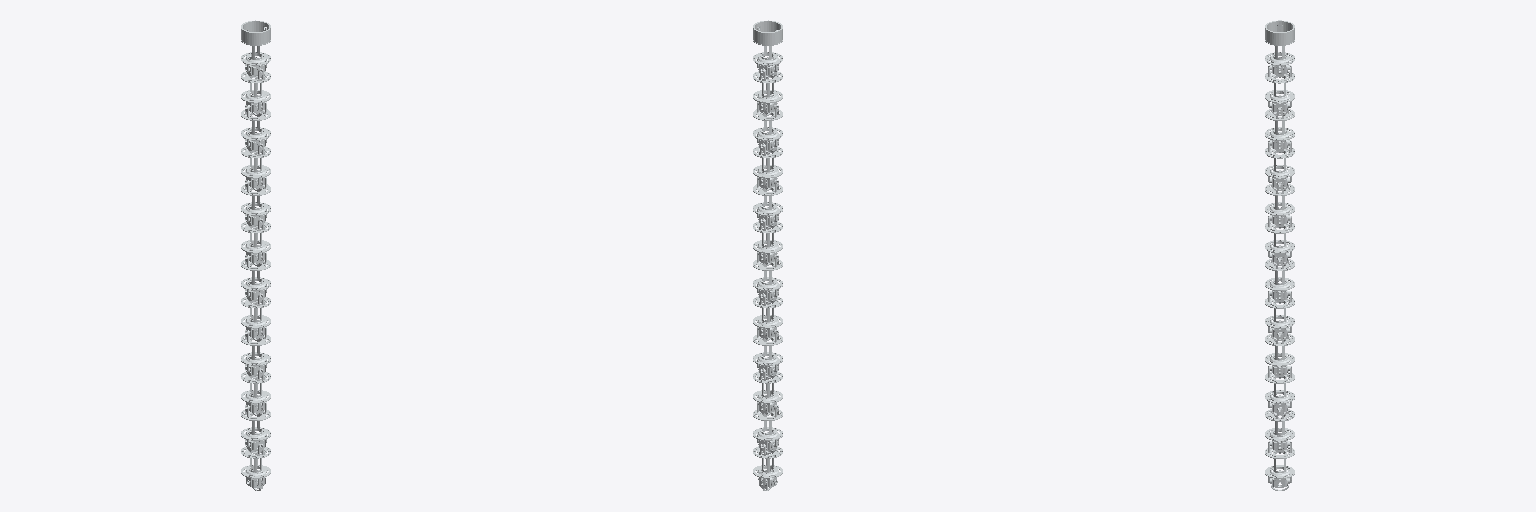
--- What the picture shows (computed from the rendered views, not written in the file) ---
Views: 3 orthographic renders of the robot side by side, from view 1: azimuth 30°, elevation 25°; view 2: azimuth 150°, elevation 25°; view 3: azimuth 270°, elevation 25°.
Robot: rxb_description — 26 links, 25 joints (24 revolute, 1 fixed); root link Link_Base; default pose: every joint at zero.
Visible links, largest first — view 1: Link_18, Link_22, Link_2, Link_10, Link_6, Link_14, Link_4, Link_16, Gripper, Link_8, Link_20, Link_12; view 2: Link_22, Link_18, Link_2, Link_10, Link_6, Link_14, Link_4, Link_16, Link_20, Link_8, Link_12, Gripper; view 3: Link_4, Link_12, Link_8, Link_16, Link_20, Gripper, Link_6, Link_10, Link_14, Link_2, Link_18, Link_22.
Link boxes in pixels (x1=…): Link_18: x1=241, y1=140, x2=270, y2=185; Link_22: x1=241, y1=65, x2=270, y2=110; Link_2: x1=241, y1=444, x2=270, y2=485; Link_10: x1=241, y1=294, x2=270, y2=335; Link_6: x1=241, y1=369, x2=270, y2=410; Link_14: x1=241, y1=219, x2=270, y2=260; Link_4: x1=241, y1=402, x2=270, y2=447; Link_16: x1=241, y1=177, x2=270, y2=221; Gripper: x1=241, y1=20, x2=270, y2=44; Link_8: x1=241, y1=327, x2=270, y2=372; Link_20: x1=241, y1=102, x2=270, y2=146; Link_12: x1=241, y1=252, x2=270, y2=297; Link_22: x1=753, y1=65, x2=782, y2=110; Link_18: x1=753, y1=140, x2=782, y2=185; Link_2: x1=753, y1=444, x2=782, y2=485; Link_10: x1=753, y1=294, x2=782, y2=335; Link_6: x1=753, y1=369, x2=782, y2=410; Link_14: x1=753, y1=219, x2=782, y2=260; Link_4: x1=753, y1=402, x2=782, y2=447; Link_16: x1=753, y1=177, x2=782, y2=221; Link_20: x1=753, y1=102, x2=782, y2=146; Link_8: x1=753, y1=327, x2=782, y2=372; Link_12: x1=753, y1=252, x2=782, y2=297; Gripper: x1=753, y1=20, x2=782, y2=44; Link_4: x1=1265, y1=408, x2=1294, y2=449; Link_12: x1=1265, y1=257, x2=1294, y2=299; Link_8: x1=1265, y1=332, x2=1294, y2=374; Link_16: x1=1265, y1=182, x2=1294, y2=224; Link_20: x1=1265, y1=107, x2=1294, y2=148; Gripper: x1=1265, y1=20, x2=1294, y2=44; Link_6: x1=1265, y1=366, x2=1294, y2=407; Link_10: x1=1265, y1=291, x2=1294, y2=332; Link_14: x1=1265, y1=216, x2=1294, y2=257; Link_2: x1=1265, y1=441, x2=1294, y2=482; Link_18: x1=1265, y1=140, x2=1294, y2=182; Link_22: x1=1265, y1=65, x2=1294, y2=107.
Bounding box of the posed robot: 0.082 × 0.082 × 1.36 m (x, y, z).
25 mesh visuals loaded from 26 distinct referenced files (25 binary STL); not drawn: 1 (reference not matched to a file when rendering).

robot.urdf — rxb_description:
<?xml version="1.0" encoding="utf-8"?>
<!-- This URDF was automatically created by SolidWorks to URDF Exporter! Originally created by Stephen Brawner ([email redacted]) 
     Commit Version: 1.6.0-4-g7f85cfe  Build Version: 1.6.7995.38578
     For more information, please see http://wiki.ros.org/sw_urdf_exporter -->
<robot
  name="rxb_description">
  <link
    name="Link_Base">
    <inertial>
      <origin
        xyz="-5.4833E-09 -1.0558E-09 0.019775"
        rpy="0 0 0" />
      <mass
        value="0.13854" />
      <inertia
        ixx="0.00019476"
        ixy="-1.9999E-11"
        ixz="5.7283E-11"
        iyy="0.00020184"
        iyz="9.884E-12"
        izz="0.00020732" />
    </inertial>
    <visual>
      <origin
        xyz="0 0 0"
        rpy="0 0 0" />
      <geometry>
        <mesh
          filename="package://rxb_description/meshes/Link_Base.STL" />
      </geometry>
      <material
        name="">
        <color
          rgba="0.89804 0.91765 0.92941 1" />
      </material>
    </visual>
    <collision>
      <origin
        xyz="0 0 0"
        rpy="0 0 0" />
      <geometry>
        <mesh
          filename="package://rxb_description/meshes/Link_Base.STL" />
      </geometry>
    </collision>
  </link>
  <link
    name="Link_1">
    <inertial>
      <origin
        xyz="1.0104E-08 1.0232E-08 -1.9979E-05"
        rpy="0 0 0" />
      <mass
        value="0.043053" />
      <inertia
        ixx="1.3084E-05"
        ixy="4.5931E-10"
        ixz="1.8513E-11"
        iyy="1.3061E-05"
        iyz="-1.8595E-11"
        izz="1.8068E-05" />
    </inertial>
    <visual>
      <origin
        xyz="0 0 0"
        rpy="0 0 0" />
      <geometry>
        <mesh
          filename="package://rxb_description/meshes/Link_1.STL" />
      </geometry>
      <material
        name="">
        <color
          rgba="0.89804 0.91765 0.92941 1" />
      </material>
    </visual>
    <collision>
      <origin
        xyz="0 0 0"
        rpy="0 0 0" />
      <geometry>
        <cylinder length="0.05" radius="0.041"/>
<!--        <mesh
          filename="package://rxb_description/meshes/Link_1.STL" />-->
      </geometry>
    </collision>
  </link>
  <joint
    name="Joint_1"
    type="revolute">
    <origin
      xyz="0 0 0.083"
      rpy="0 0 0" />
    <parent
      link="Link_Base" />
    <child
      link="Link_1" />
    <axis
      xyz="1 0 0" />
    <limit
      lower="-0.314"
      upper="0.314"
      effort="100"
      velocity="1" />
  </joint>
  <link
    name="Link_2">
    <inertial>
      <origin
        xyz="6.92775188338132E-10 6.45404889151772E-09 0.0549999980583439"
        rpy="0 0 0" />
      <mass
        value="0.0844359445158754" />
      <inertia
        ixx="0.000106217782705313"
        ixy="2.26997887566645E-12"
        ixz="-1.46044594809386E-10"
        iyy="0.000119974233834078"
        iyz="-2.20808392711434E-12"
        izz="6.41264109128055E-05" />
    </inertial>
    <visual>
      <origin
        xyz="0 0 0"
        rpy="0 0 0" />
      <geometry>
        <mesh
          filename="package://rxb_description/meshes/Link_2.STL" />
      </geometry>
      <material
        name="">
        <color
          rgba="0.898039215686275 0.917647058823529 0.929411764705882 1" />
      </material>
    </visual>
    <collision>
      <origin
        xyz="0 0 0.055"
        rpy="0 0 0" />
      <geometry>
        <cylinder length="0.11" radius="0.041"/>
<!--        <mesh
          filename="package://rxb_description/meshes/Link_2.STL" />-->
      </geometry>
    </collision>
  </link>
  <joint
    name="Joint_2"
    type="revolute">
    <origin
      xyz="0 0 0"
      rpy="0 0 1.5708" />
    <parent
      link="Link_1" />
    <child
      link="Link_2" />
    <axis
      xyz="1 0 0" />
    <limit
      lower="-0.314"
      upper="0.314"
      effort="100"
      velocity="1" />
  </joint>
  <link
    name="Link_3">
    <inertial>
      <origin
        xyz="1.0104009755725E-08 1.02316713291555E-08 -1.99789073555556E-05"
        rpy="0 0 0" />
      <mass
        value="0.0430534167618011" />
      <inertia
        ixx="1.30843177909024E-05"
        ixy="4.59306464583884E-10"
        ixz="1.85131522404431E-11"
        iyy="1.30606430354559E-05"
        iyz="-1.85950234796418E-11"
        izz="1.80677238231024E-05" />
    </inertial>
    <visual>
      <origin
        xyz="0 0 0"
        rpy="0 0 0" />
      <geometry>
        <mesh
          filename="package://rxb_description/meshes/Link_3.STL" />
      </geometry>
      <material
        name="">
        <color
          rgba="0.898039215686275 0.917647058823529 0.929411764705882 1" />
      </material>
    </visual>
    <collision>
      <origin
        xyz="0 0 0"
        rpy="0 0 0" />
      <geometry>
        <cylinder length="0.05" radius="0.041"/>
<!--        <mesh
          filename="package://rxb_description/meshes/Link_3.STL" />-->
      </geometry>
    </collision>
  </link>
  <joint
    name="Joint_3"
    type="revolute">
    <origin
      xyz="0 0 0.11"
      rpy="0 0 0" />
    <parent
      link="Link_2" />
    <child
      link="Link_3" />
    <axis
      xyz="1 0 0" />
    <limit
      lower="-0.314"
      upper="0.314"
      effort="100"
      velocity="1" />
    <mimic joint="Joint_2" multiplier="1.0" offset="0.0"/>
  </joint>
  <link
    name="Link_4">
    <inertial>
      <origin
        xyz="6.9277545953447E-10 6.45404872571012E-09 0.0549999980583439"
        rpy="0 0 0" />
      <mass
        value="0.0844359445158757" />
      <inertia
        ixx="0.000106217782705313"
        ixy="2.2699788024265E-12"
        ixz="-1.46044595102847E-10"
        iyy="0.000119974233834078"
        iyz="-2.20808379860918E-12"
        izz="6.41264109128056E-05" />
    </inertial>
    <visual>
      <origin
        xyz="0 0 0"
        rpy="0 0 0" />
      <geometry>
        <mesh
          filename="package://rxb_description/meshes/Link_4.STL" />
      </geometry>
      <material
        name="">
        <color
          rgba="0.898039215686275 0.917647058823529 0.929411764705882 1" />
      </material>
    </visual>
    <collision>
      <origin
        xyz="0 0 0.055"
        rpy="0 0 0" />
      <geometry>
        <cylinder length="0.11" radius="0.041"/>
<!--        <mesh
          filename="package://rxb_description/meshes/Link_4.STL" />-->
      </geometry>
    </collision>
  </link>
  <joint
    name="Joint_4"
    type="revolute">
    <origin
      xyz="0 0 0"
      rpy="0 0 -1.5708" />
    <parent
      link="Link_3" />
    <child
      link="Link_4" />
    <axis
      xyz="1 0 0" />
    <limit
      lower="-0.314"
      upper="0.314"
      effort="100"
      velocity="1" />
    <mimic joint="Joint_1" multiplier="1.0" offset="0.0"/>
  </joint>
  <link
    name="Link_5">
    <inertial>
      <origin
        xyz="1.01040097334203E-08 1.02316713359479E-08 -1.99789073555001E-05"
        rpy="0 0 0" />
      <mass
        value="0.043053416761801" />
      <inertia
        ixx="1.30843177909023E-05"
        ixy="4.59306464587283E-10"
        ixz="1.85131522720398E-11"
        iyy="1.30606430354558E-05"
        iyz="-1.85950235146396E-11"
        izz="1.80677238231024E-05" />
    </inertial>
    <visual>
      <origin
        xyz="0 0 0"
        rpy="0 0 0" />
      <geometry>
        <mesh
          filename="package://rxb_description/meshes/Link_5.STL" />
      </geometry>
      <material
        name="">
        <color
          rgba="0.898039215686275 0.917647058823529 0.929411764705882 1" />
      </material>
    </visual>
    <collision>
      <origin
        xyz="0 0 0"
        rpy="0 0 0" />
      <geometry>
        <cylinder length="0.05" radius="0.041"/>
<!--        <mesh
          filename="package://rxb_description/meshes/Link_5.STL" />-->
      </geometry>
    </collision>
  </link>
  <joint
    name="Joint_5"
    type="revolute">
    <origin
      xyz="0 0 0.11"
      rpy="0 0 0" />
    <parent
      link="Link_4" />
    <child
      link="Link_5" />
    <axis
      xyz="1 0 0" />
    <limit
      lower="-0.314"
      upper="0.314"
      effort="100"
      velocity="1" />
    <mimic joint="Joint_1" multiplier="1.0" offset="0.0"/>
  </joint>
  <link
    name="Link_6">
    <inertial>
      <origin
        xyz="6.92774966192583E-10 6.45404885077868E-09 0.0549999980583441"
        rpy="0 0 0" />
      <mass
        value="0.0844359445158756" />
      <inertia
        ixx="0.000106217782705313"
        ixy="2.2699786749959E-12"
        ixz="-1.46044594617312E-10"
        iyy="0.000119974233834078"
        iyz="-2.20808397277327E-12"
        izz="6.41264109128056E-05" />
    </inertial>
    <visual>
      <origin
        xyz="0 0 0"
        rpy="0 0 0" />
      <geometry>
        <mesh
          filename="package://rxb_description/meshes/Link_6.STL" />
      </geometry>
      <material
        name="">
        <color
          rgba="0.898039215686275 0.917647058823529 0.929411764705882 1" />
      </material>
    </visual>
    <collision>
      <origin
        xyz="0 0 0.055"
        rpy="0 0 0" />
      <geometry>
        <cylinder length="0.11" radius="0.041"/>
<!--        <mesh
          filename="package://rxb_description/meshes/Link_6.STL" />-->
      </geometry>
    </collision>
  </link>
  <joint
    name="Joint_6"
    type="revolute">
    <origin
      xyz="0 0 0"
      rpy="0 0 1.5708" />
    <parent
      link="Link_5" />
    <child
      link="Link_6" />
    <axis
      xyz="1 0 0" />
    <limit
      lower="-0.314"
      upper="0.314"
      effort="100"
      velocity="1" />
    <mimic joint="Joint_2" multiplier="1.0" offset="0.0"/>
  </joint>
  <link
    name="Link_7">
    <inertial>
      <origin
        xyz="1.01040097484981E-08 1.02316713754812E-08 -1.99789073555001E-05"
        rpy="0 0 0" />
      <mass
        value="0.0430534167618011" />
      <inertia
        ixx="1.30843177909023E-05"
        ixy="4.59306464584384E-10"
        ixz="1.85131522407011E-11"
        iyy="1.30606430354559E-05"
        iyz="-1.85950234641434E-11"
        izz="1.80677238231024E-05" />
    </inertial>
    <visual>
      <origin
        xyz="0 0 0"
        rpy="0 0 0" />
      <geometry>
        <mesh
          filename="package://rxb_description/meshes/Link_7.STL" />
      </geometry>
      <material
        name="">
        <color
          rgba="0.898039215686275 0.917647058823529 0.929411764705882 1" />
      </material>
    </visual>
    <collision>
      <origin
        xyz="0 0 0"
        rpy="0 0 0" />
      <geometry>
        <cylinder length="0.05" radius="0.041"/>
<!--        <mesh
          filename="package://rxb_description/meshes/Link_7.STL" />-->
      </geometry>
    </collision>
  </link>
  <joint
    name="Joint_7"
    type="revolute">
    <origin
      xyz="0 0 0.11"
      rpy="0 0 0" />
    <parent
      link="Link_6" />
    <child
      link="Link_7" />
    <axis
      xyz="1 0 0" />
    <limit
      lower="-0.314"
      upper="0.314"
      effort="100"
      velocity="1" />
    <mimic joint="Joint_2" multiplier="1.0" offset="0.0"/>
  </joint>
  <link
    name="Link_8">
    <inertial>
      <origin
        xyz="-6.92775804053446E-10 -6.45404827468107E-09 0.0549999980583439"
        rpy="0 0 0" />
      <mass
        value="0.0844359445158755" />
      <inertia
        ixx="0.000106217782705313"
        ixy="2.26997898891704E-12"
        ixz="1.46044594962054E-10"
        iyy="0.000119974233834078"
        iyz="2.20808423834578E-12"
        izz="6.41264109128055E-05" />
    </inertial>
    <visual>
      <origin
        xyz="0 0 0"
        rpy="0 0 0" />
      <geometry>
        <mesh
          filename="package://rxb_description/meshes/Link_8.STL" />
      </geometry>
      <material
        name="">
        <color
          rgba="0.898039215686275 0.917647058823529 0.929411764705882 1" />
      </material>
    </visual>
    <collision>
      <origin
        xyz="0 0 0.055"
        rpy="0 0 0" />
      <geometry>
        <cylinder length="0.11" radius="0.041"/>
<!--        <mesh
          filename="package://rxb_description/meshes/Link_8.STL" />-->
      </geometry>
    </collision>
  </link>
  <joint
    name="Joint_8"
    type="revolute">
    <origin
      xyz="0 0 0"
      rpy="0 0 -1.5708" />
    <parent
      link="Link_7" />
    <child
      link="Link_8" />
    <axis
      xyz="1 0 0" />
    <limit
      lower="-0.314"
      upper="0.314"
      effort="100"
      velocity="1" />
    <mimic joint="Joint_1" multiplier="1.0" offset="0.0"/>
  </joint>
  <link
    name="Link_9">
    <inertial>
      <origin
        xyz="1.01040097447099E-08 1.02316713228416E-08 -1.99789073555001E-05"
        rpy="0 0 0" />
      <mass
        value="0.0430534167618012" />
      <inertia
        ixx="1.30843177909024E-05"
        ixy="4.59306464583718E-10"
        ixz="1.85131522766916E-11"
        iyy="1.30606430354559E-05"
        iyz="-1.85950234800416E-11"
        izz="1.80677238231025E-05" />
    </inertial>
    <visual>
      <origin
        xyz="0 0 0"
        rpy="0 0 0" />
      <geometry>
        <mesh
          filename="package://rxb_description/meshes/Link_9.STL" />
      </geometry>
      <material
        name="">
        <color
          rgba="0.898039215686275 0.917647058823529 0.929411764705882 1" />
      </material>
    </visual>
    <collision>
      <origin
        xyz="0 0 0"
        rpy="0 0 0" />
      <geometry>
        <cylinder length="0.05" radius="0.041"/>
<!--        <mesh
          filename="package://rxb_description/meshes/Link_9.STL" />-->
      </geometry>
    </collision>
  </link>
  <joint
    name="Joint_9"
    type="revolute">
    <origin
      xyz="0 0 0.11"
      rpy="0 0 0" />
    <parent
      link="Link_8" />
    <child
      link="Link_9" />
    <axis
      xyz="1 0 0" />
    <limit
      lower="-0.314"
      upper="0.314"
      effort="100"
      velocity="1" />
  </joint>
  <link
    name="Link_10">
    <inertial>
      <origin
        xyz="6.92775174282752E-10 6.45404891225269E-09 0.0549999980583439"
        rpy="0 0 0" />
      <mass
        value="0.0844359445158752" />
      <inertia
        ixx="0.000106217782705312"
        ixy="2.26997884512043E-12"
        ixz="-1.46044595142725E-10"
        iyy="0.000119974233834077"
        iyz="-2.20808390880481E-12"
        izz="6.41264109128054E-05" />
    </inertial>
    <visual>
      <origin
        xyz="0 0 0"
        rpy="0 0 0" />
      <geometry>
        <mesh
          filename="package://rxb_description/meshes/Link_10.STL" />
      </geometry>
      <material
        name="">
        <color
          rgba="0.898039215686275 0.917647058823529 0.929411764705882 1" />
      </material>
    </visual>
    <collision>
      <origin
        xyz="0 0 0.055"
        rpy="0 0 0" />
      <geometry>
        <cylinder length="0.11" radius="0.041"/>
<!--        <mesh
          filename="package://rxb_description/meshes/Link_10.STL" />-->
      </geometry>
    </collision>
  </link>
  <joint
    name="Joint_10"
    type="revolute">
    <origin
      xyz="0 0 0"
      rpy="0 0 1.5708" />
    <parent
      link="Link_9" />
    <child
      link="Link_10" />
    <axis
      xyz="1 0 0" />
    <limit
      lower="-0.314"
      upper="0.314"
      effort="100"
      velocity="1" />
  </joint>
  <link
    name="Link_11">
    <inertial>
      <origin
        xyz="1.01040097669885E-08 1.02316714068604E-08 -1.99789073555001E-05"
        rpy="0 0 0" />
      <mass
        value="0.0430534167618012" />
      <inertia
        ixx="1.30843177909024E-05"
        ixy="4.59306464591687E-10"
        ixz="1.85131522471567E-11"
        iyy="1.30606430354559E-05"
        iyz="-1.85950234657486E-11"
        izz="1.80677238231024E-05" />
    </inertial>
    <visual>
      <origin
        xyz="0 0 0"
        rpy="0 0 0" />
      <geometry>
        <mesh
          filename="package://rxb_description/meshes/Link_11.STL" />
      </geometry>
      <material
        name="">
        <color
          rgba="0.898039215686275 0.917647058823529 0.929411764705882 1" />
      </material>
    </visual>
    <collision>
      <origin
        xyz="0 0 0"
        rpy="0 0 0" />
      <geometry>
        <cylinder length="0.05" radius="0.041"/>
<!--        <mesh
          filename="package://rxb_description/meshes/Link_11.STL" />-->
      </geometry>
    </collision>
  </link>
  <joint
    name="Joint_11"
    type="revolute">
    <origin
      xyz="0 0 0.11"
      rpy="0 0 0" />
    <parent
      link="Link_10" />
    <child
      link="Link_11" />
    <axis
      xyz="1 0 0" />
    <limit
      lower="-0.314"
      upper="0.314"
      effort="100"
      velocity="1" />
    <mimic joint="Joint_10" multiplier="1.0" offset="0.0"/>
  </joint>
  <link
    name="Link_12">
    <inertial>
      <origin
        xyz="1.06716513935055E-09 6.56108220966113E-09 0.0549999976354911"
        rpy="0 0 0" />
      <mass
        value="0.0844359430785643" />
      <inertia
        ixx="0.000106217781684007"
        ixy="2.47290505935373E-12"
        ixz="-1.46878284393236E-10"
        iyy="0.000119974232151906"
        iyz="-2.44421837145218E-12"
        izz="6.41264100840519E-05" />
    </inertial>
    <visual>
      <origin
        xyz="0 0 0"
        rpy="0 0 0" />
      <geometry>
        <mesh
          filename="package://rxb_description/meshes/Link_12.STL" />
      </geometry>
      <material
        name="">
        <color
          rgba="0.898039215686275 0.917647058823529 0.929411764705882 1" />
      </material>
    </visual>
    <collision>
      <origin
        xyz="0 0 0.055"
        rpy="0 0 0" />
      <geometry>
        <cylinder length="0.11" radius="0.041"/>
<!--        <mesh
          filename="package://rxb_description/meshes/Link_12.STL" />-->
      </geometry>
    </collision>
  </link>
  <joint
    name="Joint_12"
    type="revolute">
    <origin
      xyz="0 0 0"
      rpy="0 0 -1.5708" />
    <parent
      link="Link_11" />
    <child
      link="Link_12" />
    <axis
      xyz="1 0 0" />
    <limit
      lower="-0.314"
      upper="0.314"
      effort="100"
      velocity="1" />
    <mimic joint="Joint_9" multiplier="1.0" offset="0.0"/>
  </joint>
  <link
    name="Link_13">
    <inertial>
      <origin
        xyz="1.01040097134455E-08 1.02316713636383E-08 -1.99789073557222E-05"
        rpy="0 0 0" />
      <mass
        value="0.0430534167618013" />
      <inertia
        ixx="1.30843177909024E-05"
        ixy="4.59306464588926E-10"
        ixz="1.85131522941175E-11"
        iyy="1.30606430354559E-05"
        iyz="-1.85950234623596E-11"
        izz="1.80677238231025E-05" />
    </inertial>
    <visual>
      <origin
        xyz="0 0 0"
        rpy="0 0 0" />
      <geometry>
        <mesh
          filename="package://rxb_description/meshes/Link_13.STL" />
      </geometry>
      <material
        name="">
        <color
          rgba="0.898039215686275 0.917647058823529 0.929411764705882 1" />
      </material>
    </visual>
    <collision>
      <origin
        xyz="0 0 0"
        rpy="0 0 0" />
      <geometry>
        <cylinder length="0.05" radius="0.041"/>
<!--        <mesh
          filename="package://rxb_description/meshes/Link_13.STL" />-->
      </geometry>
    </collision>
  </link>
  <joint
    name="Joint_13"
    type="revolute">
    <origin
      xyz="0 0 0.11"
      rpy="0 0 0" />
    <parent
      link="Link_12" />
    <child
      link="Link_13" />
    <axis
      xyz="1 0 0" />
    <limit
      lower="-0.314"
      upper="0.314"
      effort="100"
      velocity="1" />
    <mimic joint="Joint_9" multiplier="1.0" offset="0.0"/>
  </joint>
  <link
    name="Link_14">
    <inertial>
      <origin
        xyz="6.92775060239595E-10 6.45404916349498E-09 0.054999997212638"
        rpy="0 0 0" />
      <mass
        value="0.084435941641254" />
      <inertia
        ixx="0.000106217780662701"
        ixy="2.67583074891859E-12"
        ixz="-1.46044595052338E-10"
        iyy="0.000119974230469735"
        iyz="-2.20808430269629E-12"
        izz="6.41264092552989E-05" />
    </inertial>
    <visual>
      <origin
        xyz="0 0 0"
        rpy="0 0 0" />
      <geometry>
        <mesh
          filename="package://rxb_description/meshes/Link_14.STL" />
      </geometry>
      <material
        name="">
        <color
          rgba="0.898039215686275 0.917647058823529 0.929411764705882 1" />
      </material>
    </visual>
    <collision>
      <origin
        xyz="0 0 0.055"
        rpy="0 0 0" />
      <geometry>
        <cylinder length="0.11" radius="0.041"/>
<!--        <mesh
          filename="package://rxb_description/meshes/Link_14.STL" />-->
      </geometry>
    </collision>
  </link>
  <joint
    name="Joint_14"
    type="revolute">
    <origin
      xyz="0 0 0"
      rpy="0 0 1.5708" />
    <parent
      link="Link_13" />
    <child
      link="Link_14" />
    <axis
      xyz="1 0 0" />
    <limit
      lower="-0.314"
      upper="0.314"
      effort="100"
      velocity="1" />
    <mimic joint="Joint_10" multiplier="1.0" offset="0.0"/>
  </joint>
  <link
    name="Link_15">
    <inertial>
      <origin
        xyz="1.01040096531514E-08 1.02316713823111E-08 -1.99789073552781E-05"
        rpy="0 0 0" />
      <mass
        value="0.0430534167618015" />
      <inertia
        ixx="1.30843177909024E-05"
        ixy="4.5930646458258E-10"
        ixz="1.85131522501147E-11"
        iyy="1.3060643035456E-05"
        iyz="-1.85950234612563E-11"
        izz="1.80677238231025E-05" />
    </inertial>
    <visual>
      <origin
        xyz="0 0 0"
        rpy="0 0 0" />
      <geometry>
        <mesh
          filename="package://rxb_description/meshes/Link_15.STL" />
      </geometry>
      <material
        name="">
        <color
          rgba="0.898039215686275 0.917647058823529 0.929411764705882 1" />
      </material>
    </visual>
    <collision>
      <origin
        xyz="0 0 0"
        rpy="0 0 0" />
      <geometry>
        <cylinder length="0.05" radius="0.041"/>
<!--        <mesh
          filename="package://rxb_description/meshes/Link_15.STL" />-->
      </geometry>
    </collision>
  </link>
  <joint
    name="Joint_15"
    type="revolute">
    <origin
      xyz="0 0 0.11"
      rpy="0 0 0" />
    <parent
      link="Link_14" />
    <child
      link="Link_15" />
    <axis
      xyz="1 0 0" />
    <limit
      lower="-0.314"
      upper="0.314"
      effort="100"
      velocity="1" />
    <mimic joint="Joint_10" multiplier="1.0" offset="0.0"/>
  </joint>
  <link
    name="Link_16">
    <inertial>
      <origin
        xyz="-6.92775918665772E-10 -6.45404833297036E-09 0.0549999980583441"
        rpy="0 0 0" />
      <mass
        value="0.0844359445158763" />
      <inertia
        ixx="0.000106217782705314"
        ixy="2.26997901164901E-12"
        ixz="1.46044595600223E-10"
        iyy="0.000119974233834079"
        iyz="2.20808418235175E-12"
        izz="6.41264109128058E-05" />
    </inertial>
    <visual>
      <origin
        xyz="0 0 0"
        rpy="0 0 0" />
      <geometry>
        <mesh
          filename="package://rxb_description/meshes/Link_16.STL" />
      </geometry>
      <material
        name="">
        <color
          rgba="0.898039215686275 0.917647058823529 0.929411764705882 1" />
      </material>
    </visual>
    <collision>
      <origin
        xyz="0 0 0.055"
        rpy="0 0 0" />
      <geometry>
        <cylinder length="0.11" radius="0.041"/>
<!--        <mesh
          filename="package://rxb_description/meshes/Link_16.STL" />-->
      </geometry>
    </collision>
  </link>
  <joint
    name="Joint_16"
    type="revolute">
    <origin
      xyz="0 0 0"
      rpy="0 0 -1.5708" />
    <parent
      link="Link_15" />
    <child
      link="Link_16" />
    <axis
      xyz="1 0 0" />
    <limit
      lower="-0.314"
      upper="0.314"
      effort="100"
      velocity="1" />
    <mimic joint="Joint_9" multiplier="1.0" offset="0.0"/>
  </joint>
  <link
    name="Link_17">
    <inertial>
      <origin
        xyz="1.01040097331695E-08 1.02316713916676E-08 -1.99789073553891E-05"
        rpy="0 0 0" />
      <mass
        value="0.0430534167618012" />
      <inertia
        ixx="1.30843177909024E-05"
        ixy="4.59306464585112E-10"
        ixz="1.85131522807412E-11"
        iyy="1.30606430354559E-05"
        iyz="-1.85950234748913E-11"
        izz="1.80677238231025E-05" />
    </inertial>
    <visual>
      <origin
        xyz="0 0 0"
        rpy="0 0 0" />
      <geometry>
        <mesh
          filename="package://rxb_description/meshes/Link_17.STL" />
      </geometry>
      <material
        name="">
        <color
          rgba="0.898039215686275 0.917647058823529 0.929411764705882 1" />
      </material>
    </visual>
    <collision>
      <origin
        xyz="0 0 0"
        rpy="0 0 0" />
      <geometry>
        <cylinder length="0.05" radius="0.041"/>
<!--        <mesh
          filename="package://rxb_description/meshes/Link_17.STL" />-->
      </geometry>
    </collision>
  </link>
  <joint
    name="Joint_17"
    type="revolute">
    <origin
      xyz="0 0 0.11"
      rpy="0 0 0" />
    <parent
      link="Link_16" />
    <child
      link="Link_17" />
    <axis
      xyz="1 0 0" />
    <limit
      lower="-0.314"
      upper="0.314"
      effort="100"
      velocity="1" />
  </joint>
  <link
    name="Link_18">
    <inertial>
      <origin
        xyz="6.92775018805065E-10 6.45404887998603E-09 0.0549999980583438"
        rpy="0 0 0" />
      <mass
        value="0.0844359445158754" />
      <inertia
        ixx="0.000106217782705313"
        ixy="2.26997888393446E-12"
        ixz="-1.46044594522816E-10"
        iyy="0.000119974233834078"
        iyz="-2.20808399376015E-12"
        izz="6.41264109128055E-05" />
    </inertial>
    <visual>
      <origin
        xyz="0 0 0"
        rpy="0 0 0" />
      <geometry>
        <mesh
          filename="package://rxb_description/meshes/Link_18.STL" />
      </geometry>
      <material
        name="">
        <color
          rgba="0.898039215686275 0.917647058823529 0.929411764705882 1" />
      </material>
    </visual>
    <collision>
      <origin
        xyz="0 0 0.055"
        rpy="0 0 0" />
      <geometry>
        <cylinder length="0.11" radius="0.041"/>
<!--        <mesh
          filename="package://rxb_description/meshes/Link_18.STL" />-->
      </geometry>
    </collision>
  </link>
  <joint
    name="Joint_18"
    type="revolute">
    <origin
      xyz="0 0 0"
      rpy="0 0 1.5708" />
    <parent
      link="Link_17" />
    <child
      link="Link_18" />
    <axis
      xyz="1 0 0" />
    <limit
      lower="-0.314"
      upper="0.314"
      effort="100"
      velocity="1" />
  </joint>
  <link
    name="Link_19">
    <inertial>
      <origin
        xyz="1.01040095799695E-08 1.02316712455543E-08 -1.99789073556111E-05"
        rpy="0 0 0" />
      <mass
        value="0.0430534167618013" />
      <inertia
        ixx="1.30843177909024E-05"
        ixy="4.5930646458597E-10"
        ixz="1.85131522538623E-11"
        iyy="1.30606430354559E-05"
        iyz="-1.85950234878036E-11"
        izz="1.80677238231024E-05" />
    </inertial>
    <visual>
      <origin
        xyz="0 0 0"
        rpy="0 0 0" />
      <geometry>
        <mesh
          filename="package://rxb_description/meshes/Link_19.STL" />
      </geometry>
      <material
        name="">
        <color
          rgba="0.898039215686275 0.917647058823529 0.929411764705882 1" />
      </material>
    </visual>
    <collision>
      <origin
        xyz="0 0 0"
        rpy="0 0 0" />
      <geometry>
        <cylinder length="0.05" radius="0.041"/>
<!--        <mesh
          filename="package://rxb_description/meshes/Link_19.STL" />-->
      </geometry>
    </collision>
  </link>
  <joint
    name="Joint_19"
    type="revolute">
    <origin
      xyz="0 0 0.11"
      rpy="0 0 0" />
    <parent
      link="Link_18" />
    <child
      link="Link_19" />
    <axis
      xyz="1 0 0" />
    <limit
      lower="-0.314"
      upper="0.314"
      effort="100"
      velocity="1" />
    <mimic joint="Joint_18" multiplier="1.0" offset="0.0"/>
  </joint>
  <link
    name="Link_20">
    <inertial>
      <origin
        xyz="6.92775732181566E-10 6.45404860232469E-09 0.0549999980583442"
        rpy="0 0 0" />
      <mass
        value="0.0844359445158771" />
      <inertia
        ixx="0.000106217782705315"
        ixy="2.26997885160174E-12"
        ixz="-1.46044594860131E-10"
        iyy="0.00011997423383408"
        iyz="-2.20808379849493E-12"
        izz="6.41264109128062E-05" />
    </inertial>
    <visual>
      <origin
        xyz="0 0 0"
        rpy="0 0 0" />
      <geometry>
        <mesh
          filename="package://rxb_description/meshes/Link_20.STL" />
      </geometry>
      <material
        name="">
        <color
          rgba="0.898039215686275 0.917647058823529 0.929411764705882 1" />
      </material>
    </visual>
    <collision>
      <origin
        xyz="0 0 0.055"
        rpy="0 0 0" />
      <geometry>
        <cylinder length="0.11" radius="0.041"/>
<!--        <mesh
          filename="package://rxb_description/meshes/Link_20.STL" />-->
      </geometry>
    </collision>
  </link>
  <joint
    name="Joint_20"
    type="revolute">
    <origin
      xyz="0 0 0"
      rpy="0 0 -1.5708" />
    <parent
      link="Link_19" />
    <child
      link="Link_20" />
    <axis
      xyz="1 0 0" />
    <limit
      lower="-0.314"
      upper="0.314"
      effort="100"
      velocity="1" />
    <mimic joint="Joint_17" multiplier="1.0" offset="0.0"/>
  </joint>
  <link
    name="Link_21">
    <inertial>
      <origin
        xyz="1.0104009726584E-08 1.02316713770784E-08 -1.99789073556111E-05"
        rpy="0 0 0" />
      <mass
        value="0.0430534167618012" />
      <inertia
        ixx="1.30843177909024E-05"
        ixy="4.59306464591021E-10"
        ixz="1.85131522604123E-11"
        iyy="1.30606430354559E-05"
        iyz="-1.85950234792674E-11"
        izz="1.80677238231024E-05" />
    </inertial>
    <visual>
      <origin
        xyz="0 0 0"
        rpy="0 0 0" />
      <geometry>
        <mesh
          filename="package://rxb_description/meshes/Link_21.STL" />
      </geometry>
      <material
        name="">
        <color
          rgba="0.898039215686275 0.917647058823529 0.929411764705882 1" />
      </material>
    </visual>
    <collision>
      <origin
        xyz="0 0 0"
        rpy="0 0 0" />
      <geometry>
        <cylinder length="0.05" radius="0.041"/>
<!--        <mesh
          filename="package://rxb_description/meshes/Link_21.STL" />-->
      </geometry>
    </collision>
  </link>
  <joint
    name="Joint_21"
    type="revolute">
    <origin
      xyz="0 0 0.11"
      rpy="0 0 0" />
    <parent
      link="Link_20" />
    <child
      link="Link_21" />
    <axis
      xyz="1 0 0" />
    <limit
      lower="-0.314"
      upper="0.314"
      effort="100"
      velocity="1" />
    <mimic joint="Joint_17" multiplier="1.0" offset="0.0"/>
  </joint>
  <link
    name="Link_22">
    <inertial>
      <origin
        xyz="6.92774911121145E-10 6.45404899153338E-09 0.054999998058344"
        rpy="0 0 0" />
      <mass
        value="0.0844359445158763" />
      <inertia
        ixx="0.000106217782705314"
        ixy="2.26997870613721E-12"
        ixz="-1.46044594641591E-10"
        iyy="0.000119974233834079"
        iyz="-2.20808392832759E-12"
        izz="6.41264109128058E-05" />
    </inertial>
    <visual>
      <origin
        xyz="0 0 0"
        rpy="0 0 0" />
      <geometry>
        <mesh
          filename="package://rxb_description/meshes/Link_22.STL" />
      </geometry>
      <material
        name="">
        <color
          rgba="0.898039215686275 0.917647058823529 0.929411764705882 1" />
      </material>
    </visual>
    <collision>
      <origin
        xyz="0 0 0.055"
        rpy="0 0 0" />
      <geometry>
        <cylinder length="0.11" radius="0.041"/>
<!--        <mesh
          filename="package://rxb_description/meshes/Link_22.STL" />-->
      </geometry>
    </collision>
  </link>
  <joint
    name="Joint_22"
    type="revolute">
    <origin
      xyz="0 0 0"
      rpy="0 0 1.5708" />
    <parent
      link="Link_21" />
    <child
      link="Link_22" />
    <axis
      xyz="1 0 0" />
    <limit
      lower="-0.314"
      upper="0.314"
      effort="100"
      velocity="1" />
    <mimic joint="Joint_18" multiplier="1.0" offset="0.0"/>
  </joint>
  <link
    name="Link_23">
    <inertial>
      <origin
        xyz="1.01040096008591E-08 1.02316712184685E-08 -1.99789073556111E-05"
        rpy="0 0 0" />
      <mass
        value="0.0430534167618007" />
      <inertia
        ixx="1.30843177909022E-05"
        ixy="4.59306464587685E-10"
        ixz="1.85131522600016E-11"
        iyy="1.30606430354558E-05"
        iyz="-1.85950234927464E-11"
        izz="1.80677238231023E-05" />
    </inertial>
    <visual>
      <origin
        xyz="0 0 0"
        rpy="0 0 0" />
      <geometry>
        <mesh
          filename="package://rxb_description/meshes/Link_23.STL" />
      </geometry>
      <material
        name="">
        <color
          rgba="0.898039215686275 0.917647058823529 0.929411764705882 1" />
      </material>
    </visual>
    <collision>
      <origin
        xyz="0 0 0"
        rpy="0 0 0" />
      <geometry>
        <cylinder length="0.05" radius="0.041"/>
<!--        <mesh
          filename="package://rxb_description/meshes/Link_23.STL" />-->
      </geometry>
    </collision>
  </link>
  <joint
    name="Joint_23"
    type="revolute">
    <origin
      xyz="0 0 0.11"
      rpy="0 0 0" />
    <parent
      link="Link_22" />
    <child
      link="Link_23" />
    <axis
      xyz="1 0 0" />
    <limit
      lower="-0.314"
      upper="0.314"
      effort="100"
      velocity="1" />
    <mimic joint="Joint_18" multiplier="1.0" offset="0.0"/>
  </joint>
  <link
    name="Link_24">
    <inertial>
      <origin
        xyz="-6.92814541927074E-10 -6.45397831609587E-09 0.0549999980583409"
        rpy="0 0 0" />
      <mass
        value="0.0844359445158761" />
      <inertia
        ixx="0.000106217782705314"
        ixy="2.26997885621196E-12"
        ixz="1.4604459404412E-10"
        iyy="0.000119974233834079"
        iyz="2.20808410306866E-12"
        izz="6.41264109128056E-05" />
    </inertial>
    <visual>
      <origin
        xyz="0 0 0"
        rpy="0 0 0" />
      <geometry>
        <mesh
          filename="package://rxb_description/meshes/Link_24.STL" />
      </geometry>
      <material
        name="">
        <color
          rgba="0.898039215686275 0.917647058823529 0.929411764705882 1" />
      </material>
    </visual>
    <collision>
      <origin
        xyz="0 0 0.055"
        rpy="0 0 0" />
      <geometry>
        <cylinder length="0.11" radius="0.041"/>
<!--        <mesh
          filename="package://rxb_description/meshes/Link_24.STL" />-->
      </geometry>
    </collision>
  </link>
  <joint
    name="Joint_24"
    type="revolute">
    <origin
      xyz="0 0 0"
      rpy="0 0 -1.5708" />
    <parent
      link="Link_23" />
    <child
      link="Link_24" />
    <axis
      xyz="1 0 0" />
    <limit
      lower="-0.314"
      upper="0.314"
      effort="100"
      velocity="1" />
    <mimic joint="Joint_17" multiplier="1.0" offset="0.0"/>
  </joint>
  <link
    name="Gripper">
    <inertial>
      <origin
        xyz="-3.84845645265621E-14 7.08704268072003E-14 -0.00747292029365343"
        rpy="0 0 0" />
      <mass
        value="0.115606649328716" />
      <inertia
        ixx="9.34355302681466E-05"
        ixy="1.70242494233915E-23"
        ixz="5.63737986979482E-24"
        iyy="9.34355302681466E-05"
        iyz="-2.43925955257932E-19"
        izz="0.0001632959831288" />
    </inertial>
    <visual>
      <origin
        xyz="0 0 0"
        rpy="0 0 0" />
      <geometry>
        <mesh
          filename="package://rxb_description/meshes/Gripper.STL" />
      </geometry>
      <material
        name="">
        <color
          rgba="0.898039215686275 0.917647058823529 0.929411764705882 1" />
      </material>
    </visual>
    <collision>
      <origin
        xyz="0 0 0"
        rpy="0 0 0" />
      <geometry>
        <mesh
          filename="package://rxb_description/meshes/Gripper.STL" />
      </geometry>
    </collision>
  </link>
  <joint
    name="Joint_Gripper"
    type="fixed">
    <origin
      xyz="0 0 0.11"
      rpy="0 0 0" />
    <parent
      link="Link_24" />
    <child
      link="Gripper" />
    <axis
      xyz="0 0 0" />
  </joint>
</robot>
